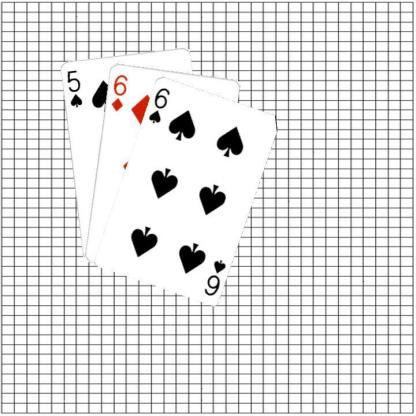5S: (64, 67, 83, 108)
6D: (108, 72, 128, 112)
6S: (202, 257, 227, 297), (146, 85, 171, 124)
